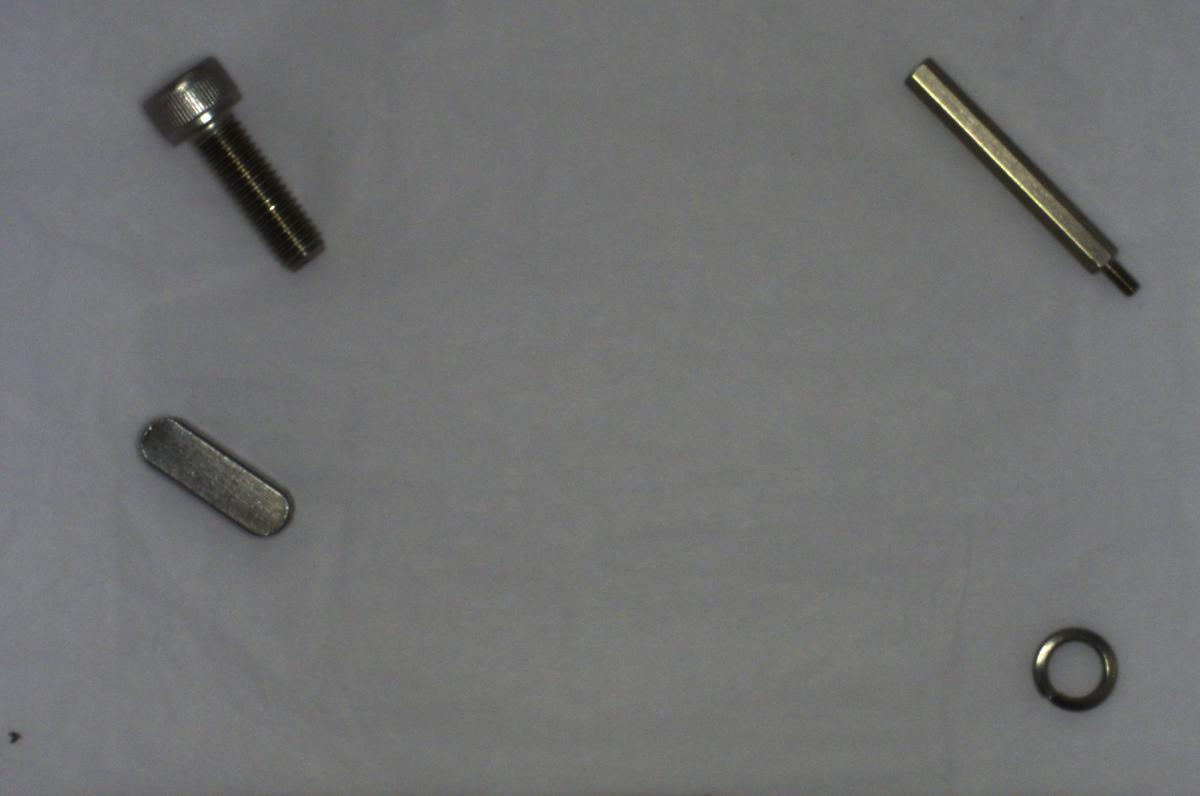Hexagon screw: (126, 42, 342, 279)
Hexagonal steel column: (897, 47, 1146, 308)
Keybar: (127, 400, 302, 550)
Spring washer: (1025, 623, 1130, 712)
